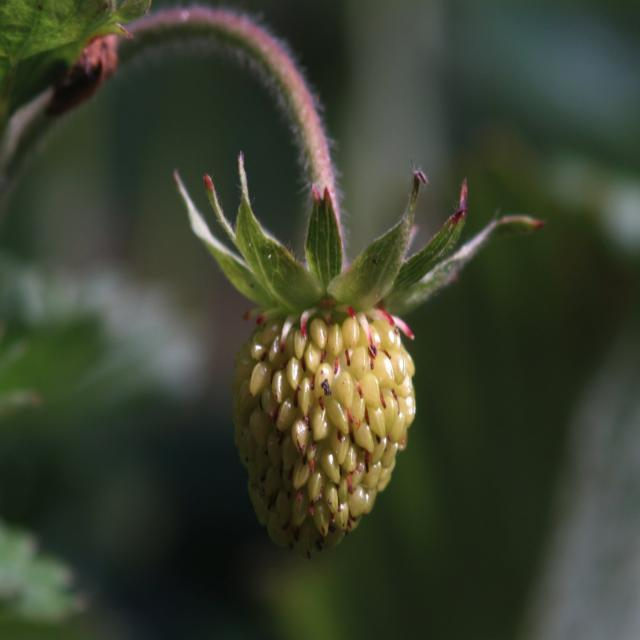strawberry: (236, 305, 414, 562)
